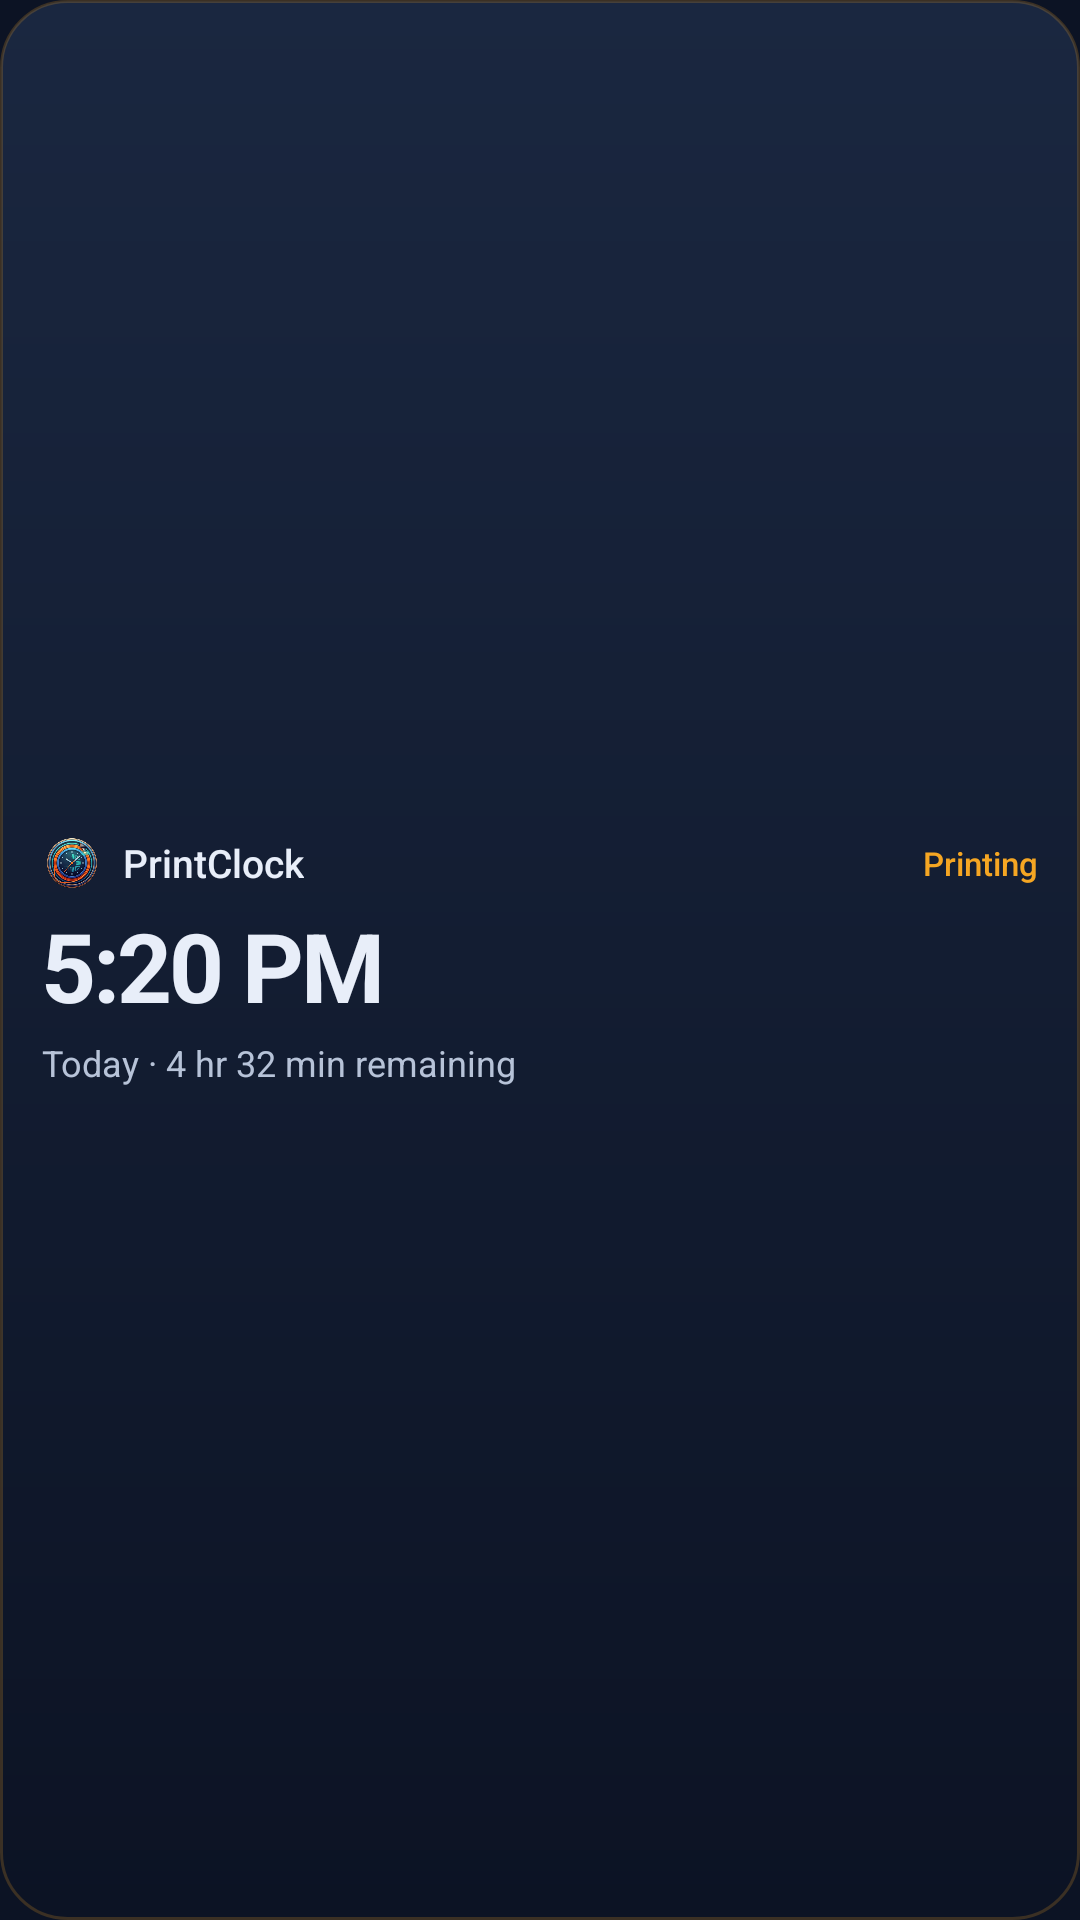

Point at icon controls on the screen. Image size 1080w x 1920h, points as (x,y).
app: (72,863)
